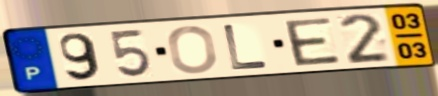2: (338, 12, 395, 66)
5: (107, 28, 154, 79)
9: (58, 31, 102, 83)
E: (281, 15, 344, 68)
L: (221, 22, 272, 72)
O: (166, 24, 220, 75)
